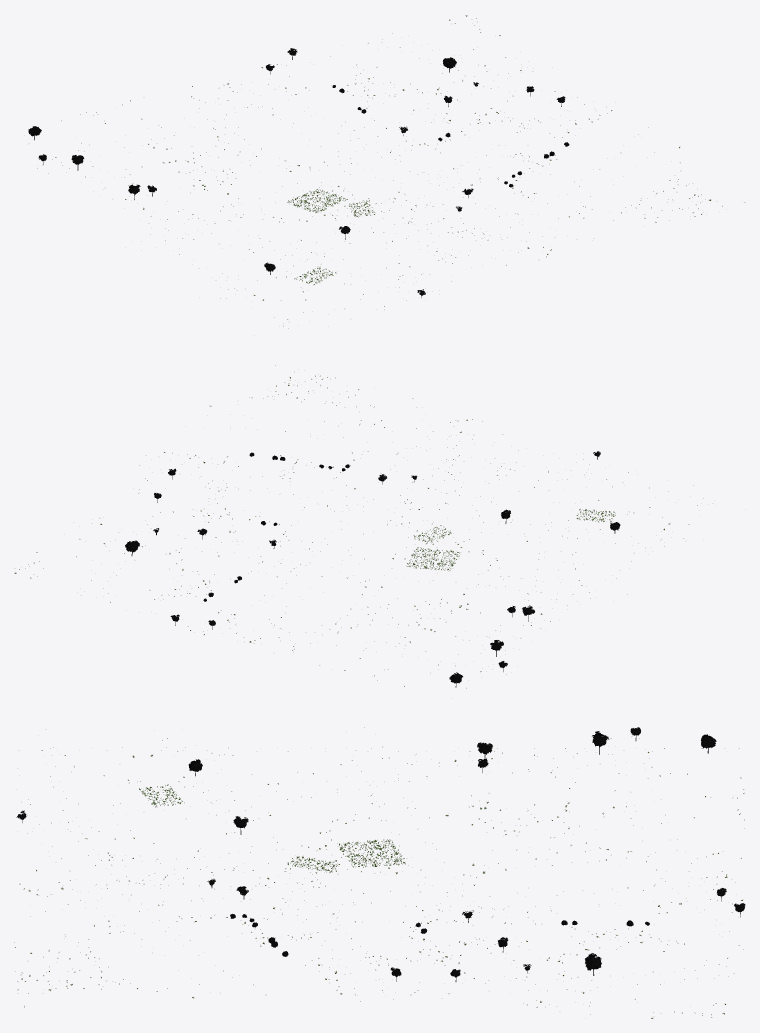
File: Vegetation.fbx
The picture shows the model from 3 angles, top to bottom: view 1: azimuth 30°, elevation 25°; view 2: azimuth 150°, elevation 25°; view 3: azimuth 270°, elevation 25°; orthographic projection. The views are drawn at different scales.
Visible parts, largest first — view 1: EXPORT_OT_Vegetation_SA_M01_02_S01_00; view 2: EXPORT_OT_Vegetation_SA_M01_02_S01_00; view 3: EXPORT_OT_Vegetation_SA_M01_02_S01_00.
Boxes of the visible parts, left/top/right/bottom form: EXPORT_OT_Vegetation_SA_M01_02_S01_00: left=28, top=15, right=744, bottom=328; EXPORT_OT_Vegetation_SA_M01_02_S01_00: left=14, top=365, right=703, bottom=688; EXPORT_OT_Vegetation_SA_M01_02_S01_00: left=14, top=727, right=745, bottom=1018.
Size of the model in its own units: 250 by 18.86 by 250.
